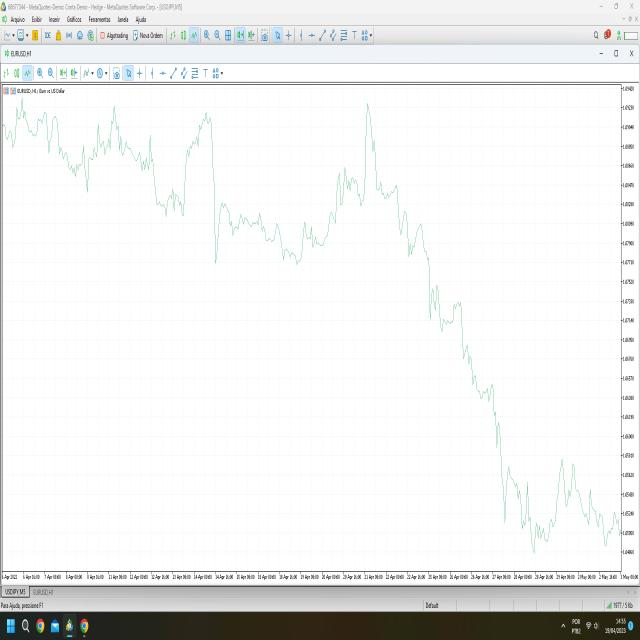oco: (318, 90, 413, 247)
